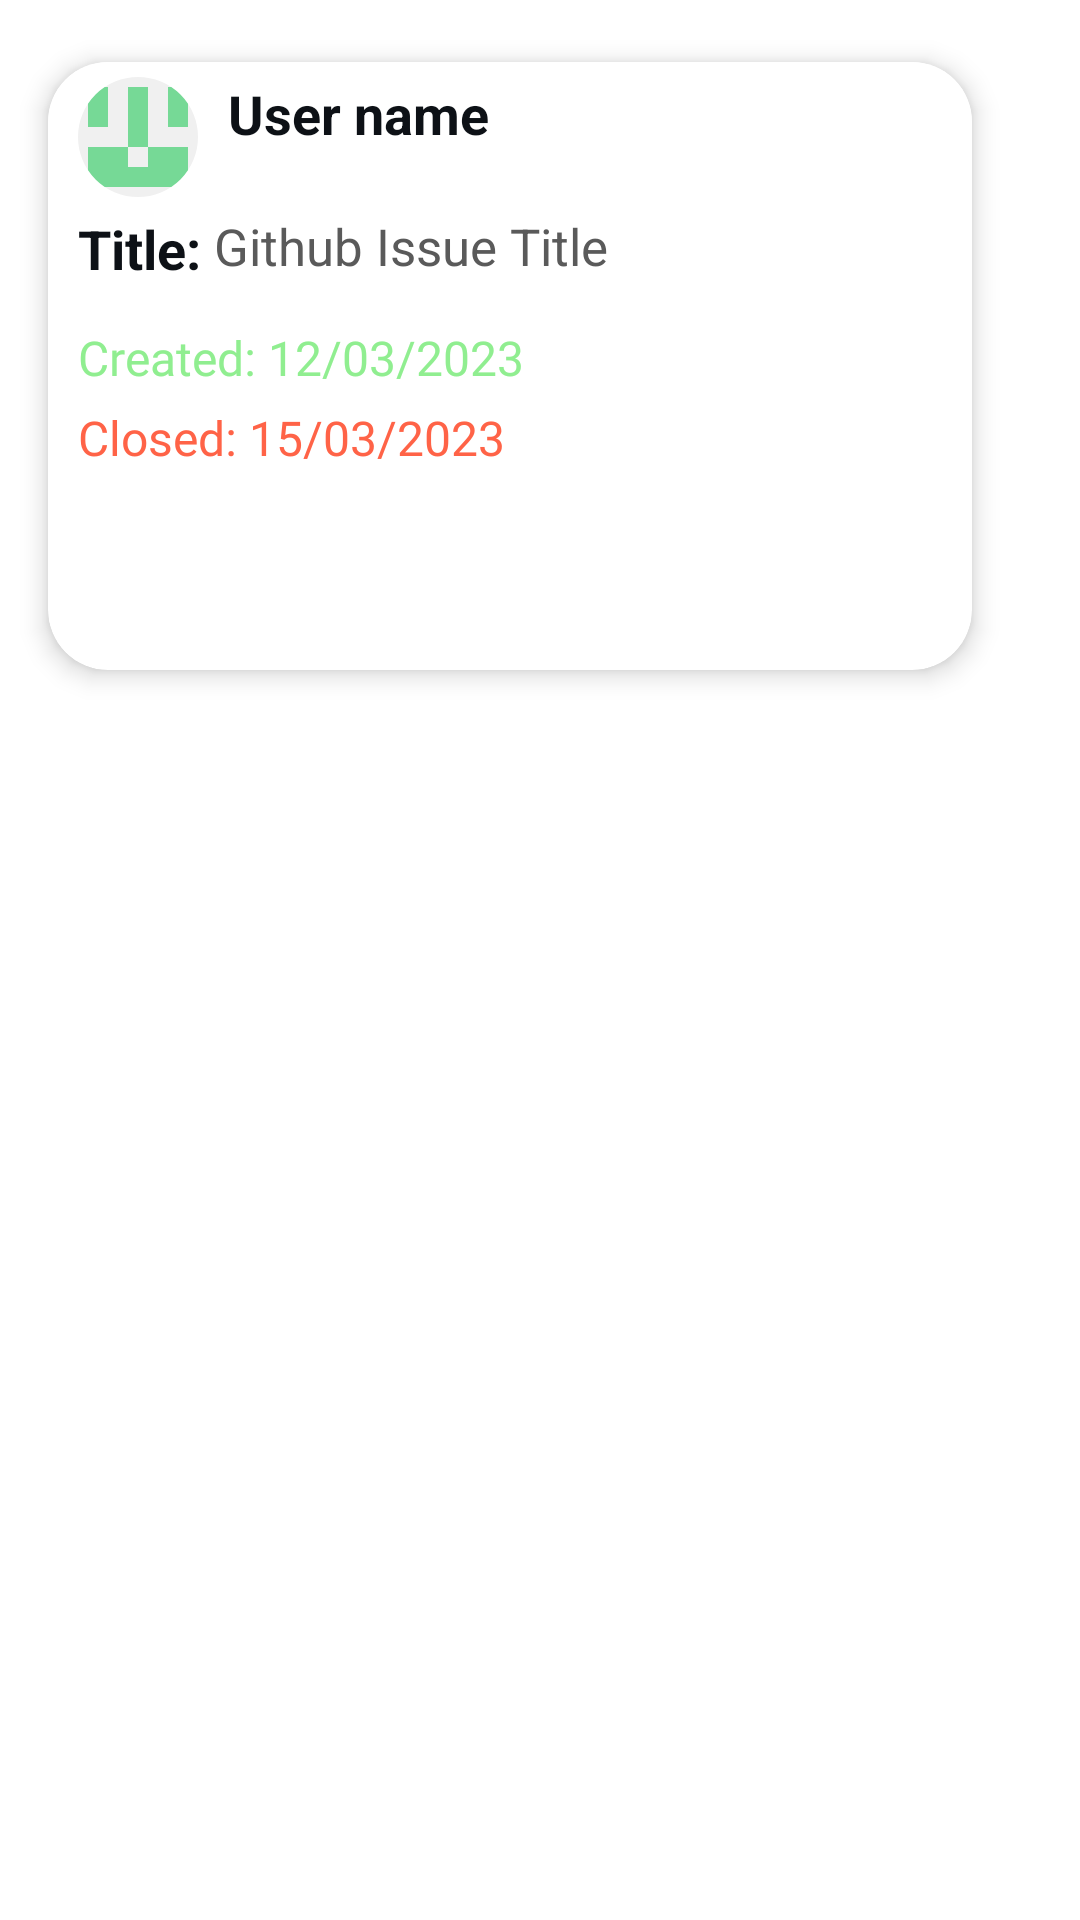

Icons on this 1080px×1920px Android screen, each with its box as detection(x1, y1, x2, y2):
githubuser: detection(88, 87, 188, 187)
